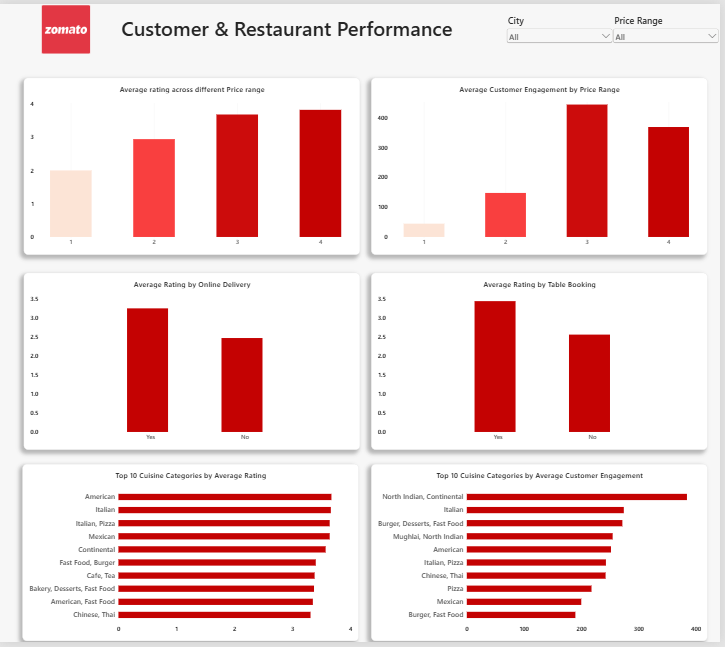

The dashboard page shown, as its layout file describes it:
{"tool":"powerbi","page":{"name":"Customer & Restaurant Performance","canvas":[1920,1700],"ordinal":1},"visuals":[{"type":"slicer","fields":{"Values":["zomato_analysis zomato_cleaned.City"]},"box":[1345.6,26.2,291.1,131.2],"z":0},{"type":"slicer","fields":{"Values":["zomato_analysis zomato_cleaned.Price_range"]},"box":[1629.5,26.2,291.1,131.2],"z":1000},{"type":"textbox","box":[324.5,26.2,1080.8,78.7],"z":2000},{"type":"image","box":[26.2,2.4,298.2,128.8],"z":3000},{"type":"clusteredColumnChart","title":"Average rating across different Price range","fields":{"Y":["Sum(zomato_analysis vw_price_range_analysis.average_rating)"],"Category":["zomato_analysis vw_price_range_analysis.Price_range"]},"box":[62,198,897.1,472.4],"z":4000},{"type":"clusteredColumnChart","title":"Average Customer Engagement by Price Range","fields":{"Category":["zomato_analysis vw_price_range_engagement.Price_range"],"Y":["Sum(zomato_analysis vw_price_range_engagement.average_votes)"]},"box":[990.1,198,897.1,472.4],"z":5000},{"type":"clusteredColumnChart","title":"Average Rating by Online Delivery","fields":{"Category":["zomato_analysis vw_online_delivery_analysis.Has_Online_delivery"],"Y":["Avg(zomato_analysis vw_online_delivery_analysis.average_rating)"]},"box":[62,718.1,897.1,472.4],"z":6000},{"type":"clusteredColumnChart","title":"Average Rating by Table Booking","fields":{"Category":["zomato_analysis vw_table_booking_analysis.Has_Table_booking"],"Y":["Avg(zomato_analysis vw_table_booking_analysis.average_rating)"]},"box":[990.1,718.1,897.1,472.4],"z":7000},{"type":"clusteredBarChart","title":"Top 10 Cuisine Categories by Average Rating","fields":{"Category":["zomato_analysis vw_cuisine_rating_analysis.Cuisines"],"Y":["Avg(zomato_analysis vw_cuisine_rating_analysis.average_rating)"]},"box":[60,1227.5,897.1,472.4],"z":8000},{"type":"clusteredBarChart","title":"Top 10 Cuisine Categories by Average Customer Engagement","fields":{"Category":["zomato_analysis vw_cuisine_engagement_analysis.Cuisines"],"Y":["Avg(zomato_analysis vw_cuisine_engagement_analysis.average_votes)"]},"box":[990,1227.5,897.1,472.4],"z":9000}]}

Visuals, with their boxes in screenshot pixels (x1, y1, x2, y2), scaled from the page's 1920x1700 canvas onto the 725x647 screenshot:
slicer - zomato_analysis zomato_cleaned.City: rect(508, 10, 618, 60)
slicer - zomato_analysis zomato_cleaned.Price_range: rect(615, 10, 724, 60)
textbox: rect(123, 10, 531, 40)
image: rect(10, 1, 122, 50)
"Average rating across different Price range" clusteredColumnChart: rect(23, 75, 362, 255)
"Average Customer Engagement by Price Range" clusteredColumnChart: rect(374, 75, 713, 255)
"Average Rating by Online Delivery" clusteredColumnChart: rect(23, 273, 362, 453)
"Average Rating by Table Booking" clusteredColumnChart: rect(374, 273, 713, 453)
"Top 10 Cuisine Categories by Average Rating" clusteredBarChart: rect(23, 467, 361, 646)
"Top 10 Cuisine Categories by Average Customer Engagement" clusteredBarChart: rect(374, 467, 713, 646)
